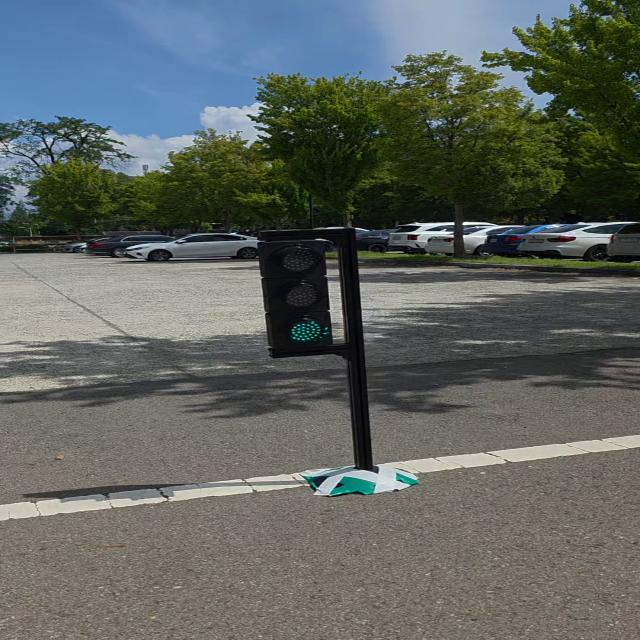green: (261, 232, 335, 352)
